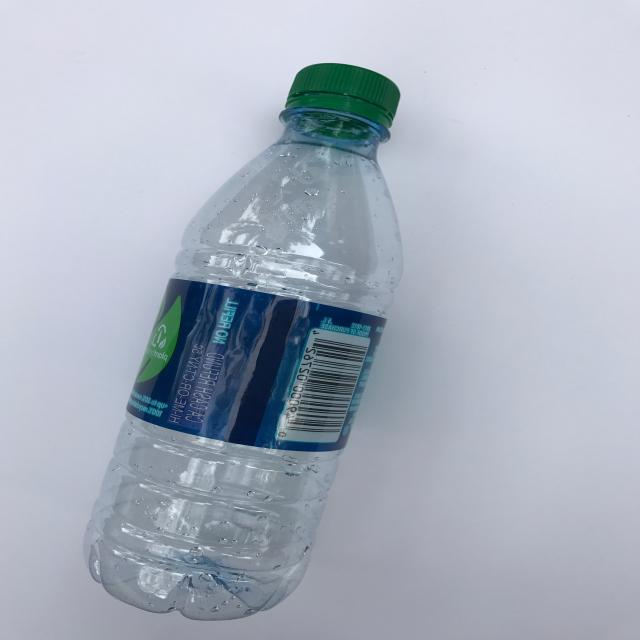plastic: (82, 62, 406, 621)
